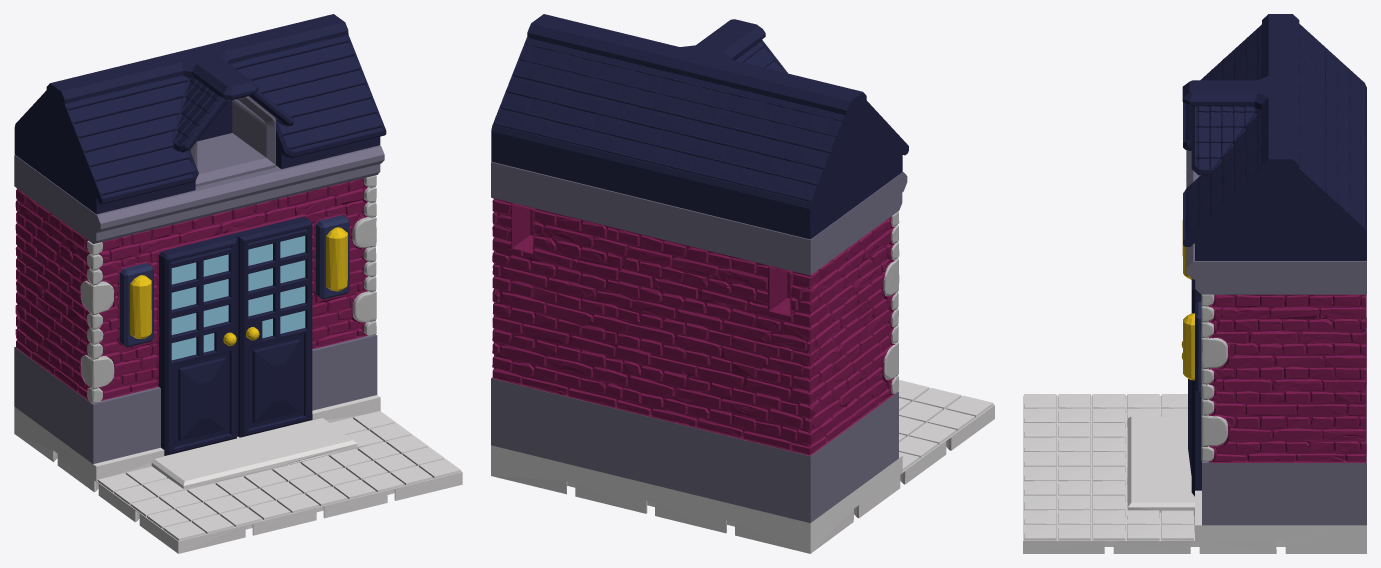
File: fire middle.glb
3 views of the same model, side by side, from view 1: azimuth 30°, elevation 25°; view 2: azimuth 150°, elevation 25°; view 3: azimuth 270°, elevation 25° (orthographic). The views are drawn at different scales.
Visible parts, largest first — view 1: dach oben 1, placement_plate, main red, Körper 7, boden sockel, Körper 8, LIGHT_H, Körper, Körper 9, light_, dach oben 3, dach oben 2; view 2: main red, dach oben 1, boden sockel, placement_plate, Körper 8, Körper; view 3: dach oben 1, placement_plate, main red, boden sockel, Körper 8, Körper, Körper 7, light_, dach oben 2.
Boxes of the visible parts, <box> form: dach oben 1: <box>14,14,386,214</box>; placement_plate: <box>14,395,462,553</box>; main red: <box>15,178,368,402</box>; Körper 7: <box>158,216,312,455</box>; boden sockel: <box>14,334,377,463</box>; Körper 8: <box>14,145,384,243</box>; LIGHT_H: <box>171,236,305,360</box>; Körper: <box>80,175,376,402</box>; Körper 9: <box>190,96,275,186</box>; light_: <box>130,227,347,338</box>; dach oben 3: <box>120,263,153,347</box>; dach oben 2: <box>316,215,349,299</box>; main red: <box>492,198,894,455</box>; dach oben 1: <box>491,14,908,239</box>; boden sockel: <box>491,378,898,522</box>; placement_plate: <box>491,380,994,553</box>; Körper 8: <box>491,162,907,275</box>; Körper: <box>883,211,899,393</box>; dach oben 1: <box>1182,14,1366,260</box>; placement_plate: <box>1023,394,1366,553</box>; main red: <box>1208,294,1366,462</box>; boden sockel: <box>1202,318,1366,525</box>; Körper 8: <box>1186,150,1366,294</box>; Körper: <box>1201,294,1227,461</box>; Körper 7: <box>1188,278,1201,496</box>; light_: <box>1182,220,1194,380</box>; dach oben 2: <box>1195,301,1201,393</box>.
Size of the model in its own units: 100 by 127 by 100.
